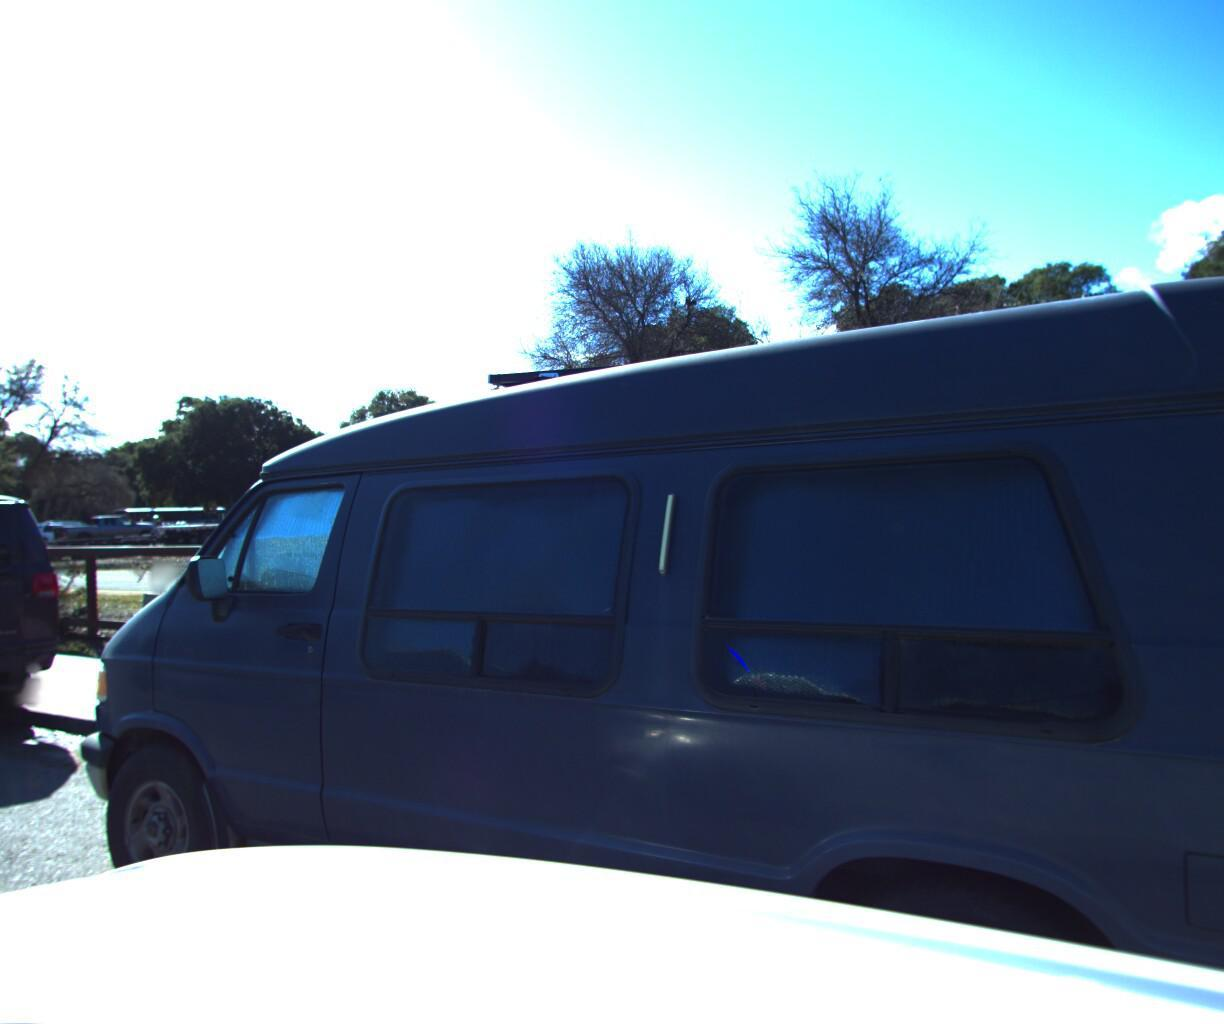car: (0, 75, 1224, 1024), (0, 483, 110, 806)
